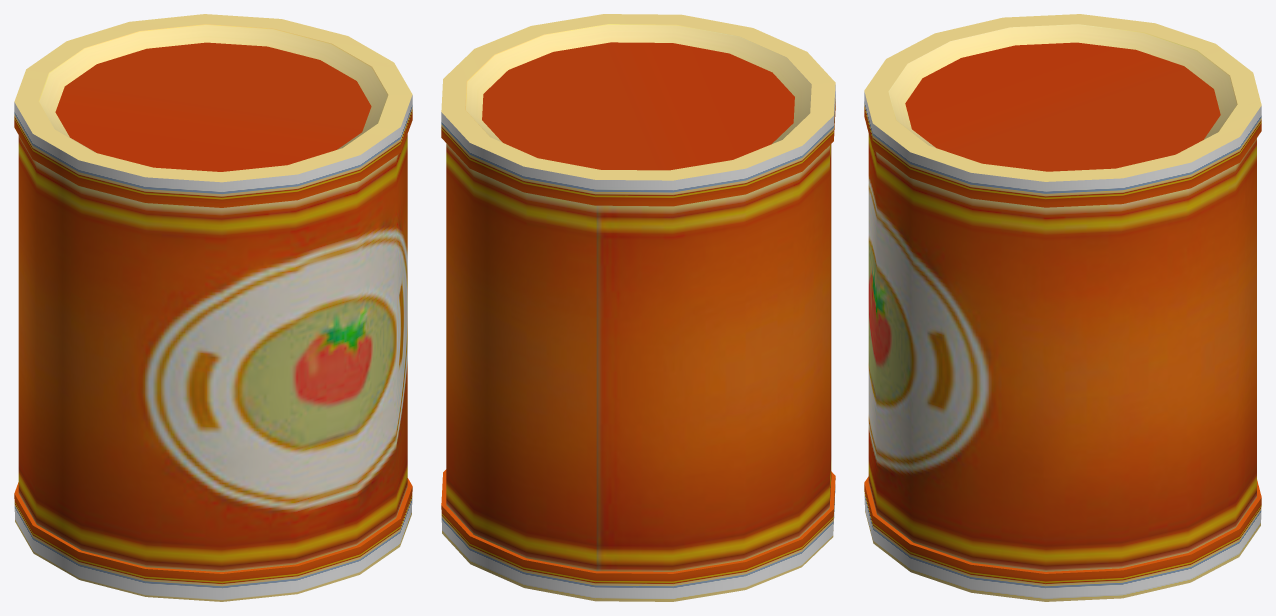
3 views of the same model, side by side, from view 1: azimuth 30°, elevation 25°; view 2: azimuth 150°, elevation 25°; view 3: azimuth 270°, elevation 25° (orthographic).
Visible parts, largest first — view 1: 1-3; view 2: 1-3; view 3: 1-3.
Part boxes in pixels (<box>): 1-3: <box>14,14,412,601</box>; 1-3: <box>441,14,835,601</box>; 1-3: <box>864,14,1261,601</box>.
Size of the model in its own units: 8.38 by 9.78 by 8.38.
